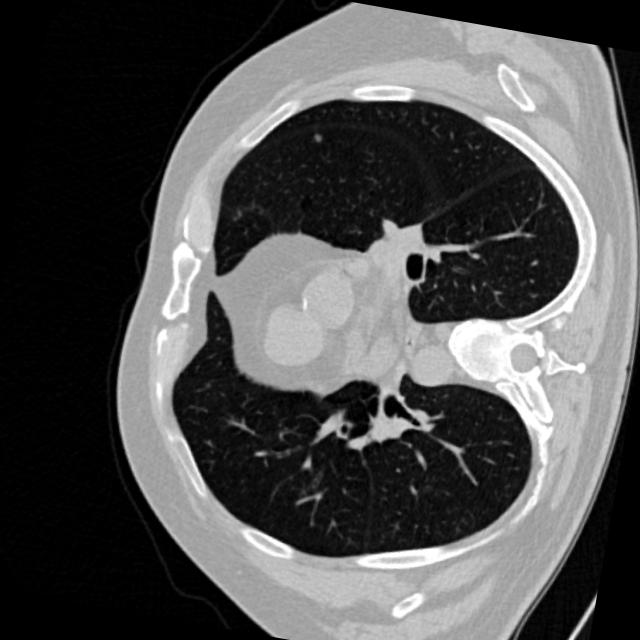nodule: (306, 122, 328, 146)
